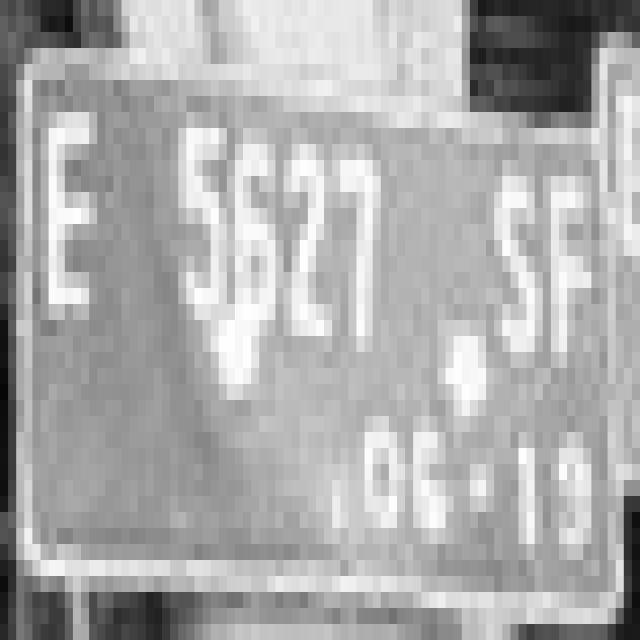license-plat: (0, 0, 639, 634)
